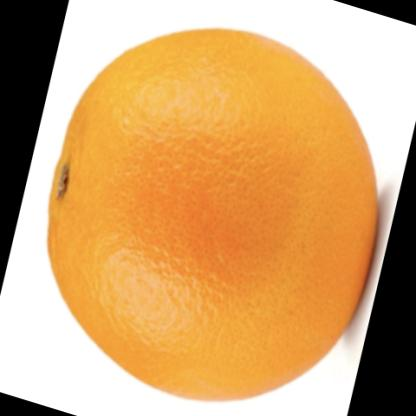fresh: (50, 26, 378, 400)
